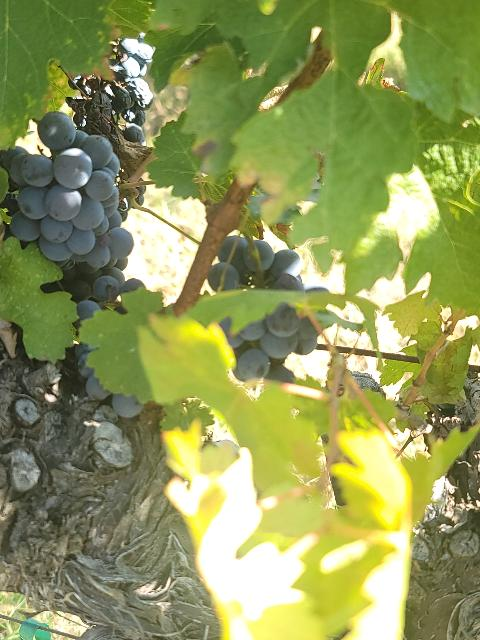grapes: (2, 111, 132, 280), (219, 302, 318, 380), (208, 235, 304, 291)
